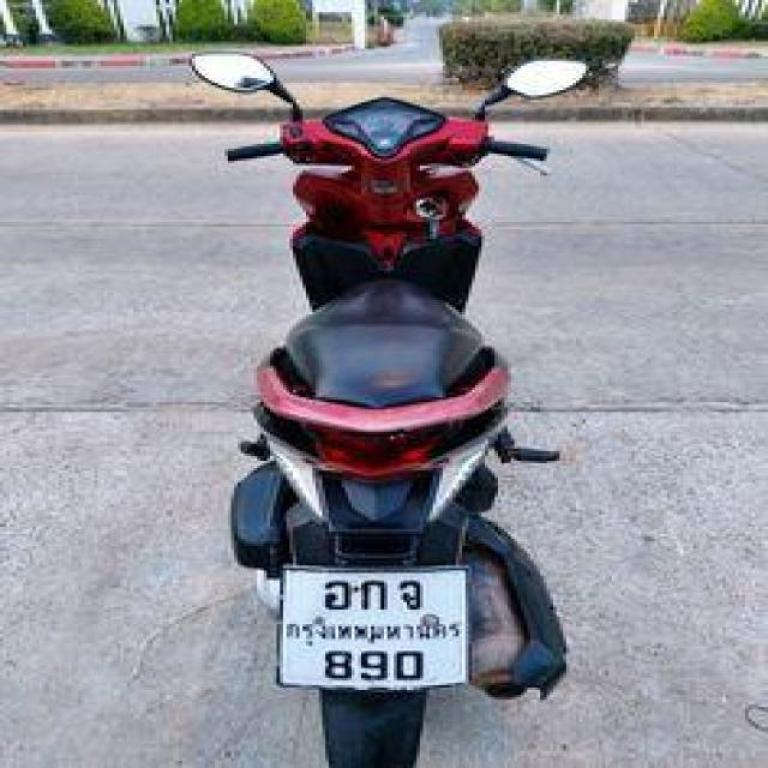license plate: (281, 568, 466, 691)
